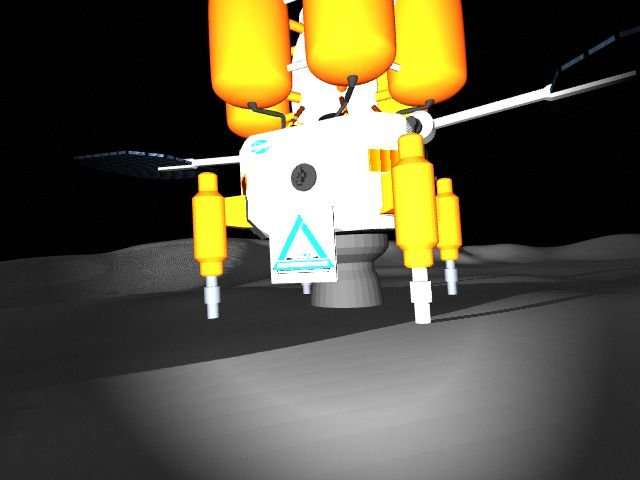basemarker: (271, 213, 338, 274)
